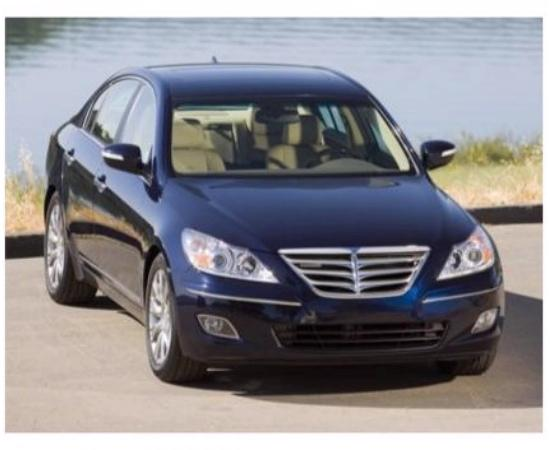Car: (33, 35, 520, 405)
